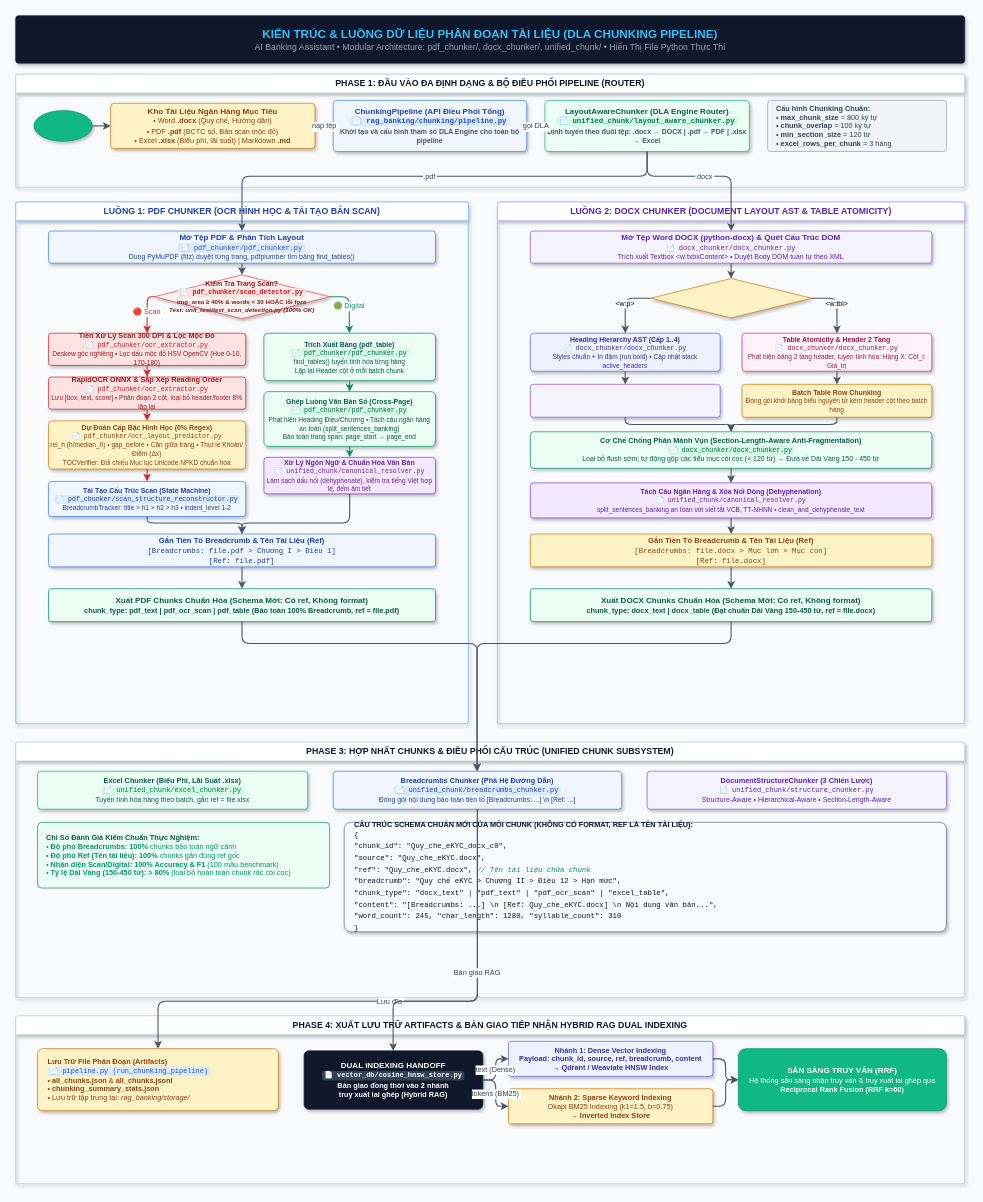
Image size: 983x1202. Some labels were removed from this diagram. The shapes that lost their labels are listed below. From the top down, each one's centre as x and y in pixels, then its label:
(x=63, y=126): Bắt đầu
(x=731, y=299): Phân Loại Khối Element? <w:p> (Paragraph) hay <w:tbl> (Table)
(x=626, y=401): List & Paragraph Grouping Gom danh sách đạn (bullets, numbers) với đoạn dẫn nhập
